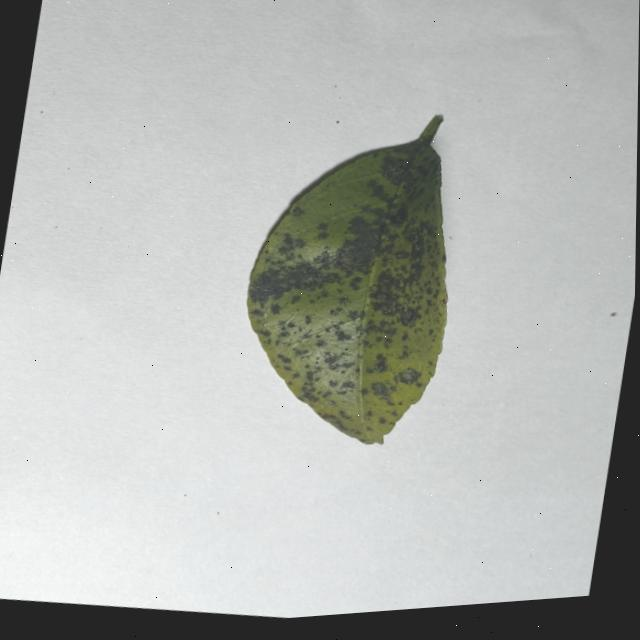sooty_mold: (247, 116, 446, 443)
